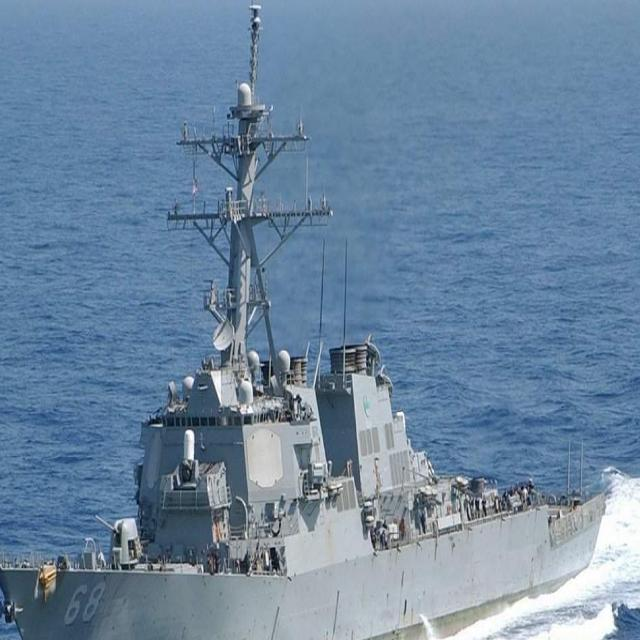navalvessels: (0, 1, 626, 640)
